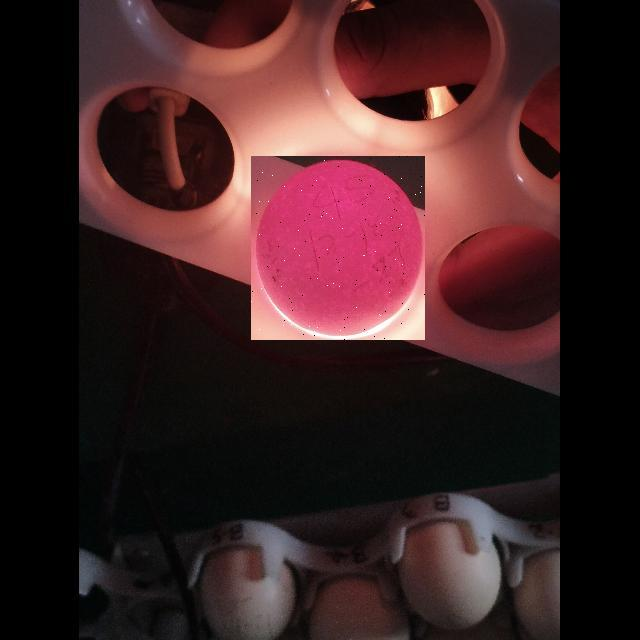Infertile: (251, 156, 425, 340)
